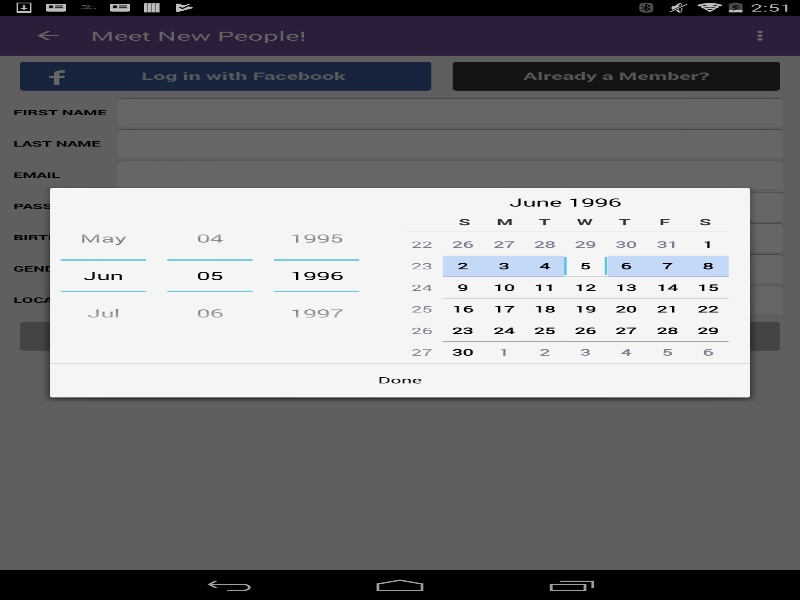Button: (50, 363, 750, 397), (60, 219, 146, 260), (60, 290, 146, 331), (167, 219, 252, 260), (167, 290, 252, 331), (274, 219, 359, 260), (274, 290, 359, 331)
Input: (60, 260, 146, 290), (167, 260, 252, 290), (274, 260, 359, 290)
